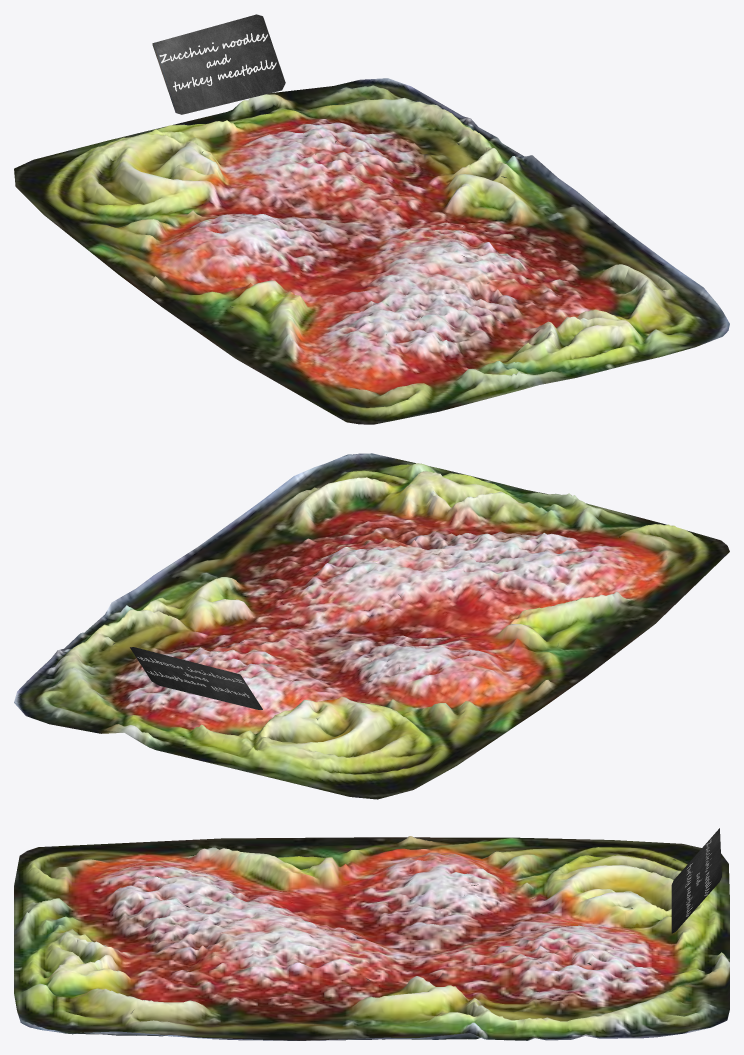
Rendered from food_tray_4.glb.
3 views of the same model, one above another, from view 1: azimuth 30°, elevation 25°; view 2: azimuth 150°, elevation 25°; view 3: azimuth 270°, elevation 25° (orthographic).
Visible parts, largest first — view 1: Material2.020, Material2.021; view 2: Material2.020, Material2.021; view 3: Material2.020, Material2.021.
Part boxes in pixels (x1,y1,x2,y2): Material2.020: (14,78,729,424); Material2.021: (152,14,285,114); Material2.020: (14,453,729,799); Material2.021: (130,647,262,709); Material2.020: (14,836,729,1040); Material2.021: (671,828,721,933).
Bounding box in the file's own units: 6.81 × 1.45 × 10.02.
Materials: 2 (2 with a texture image).
